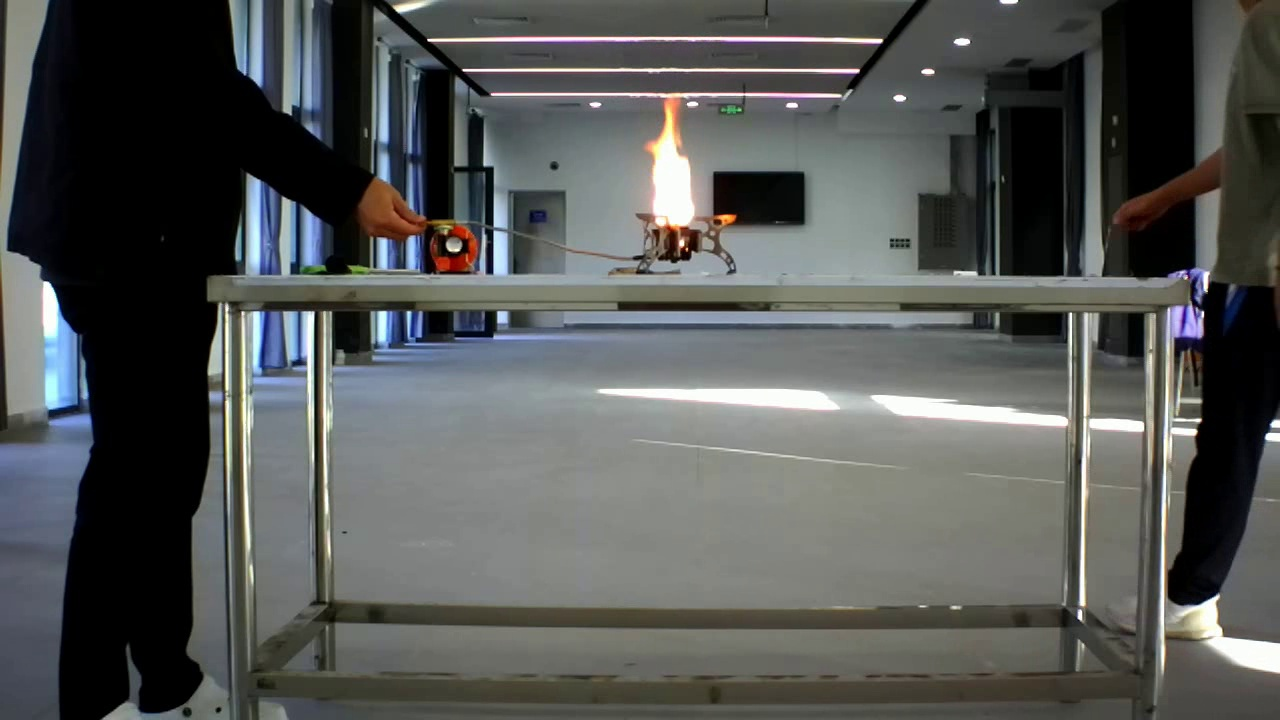Fire: (628, 93, 741, 263)
